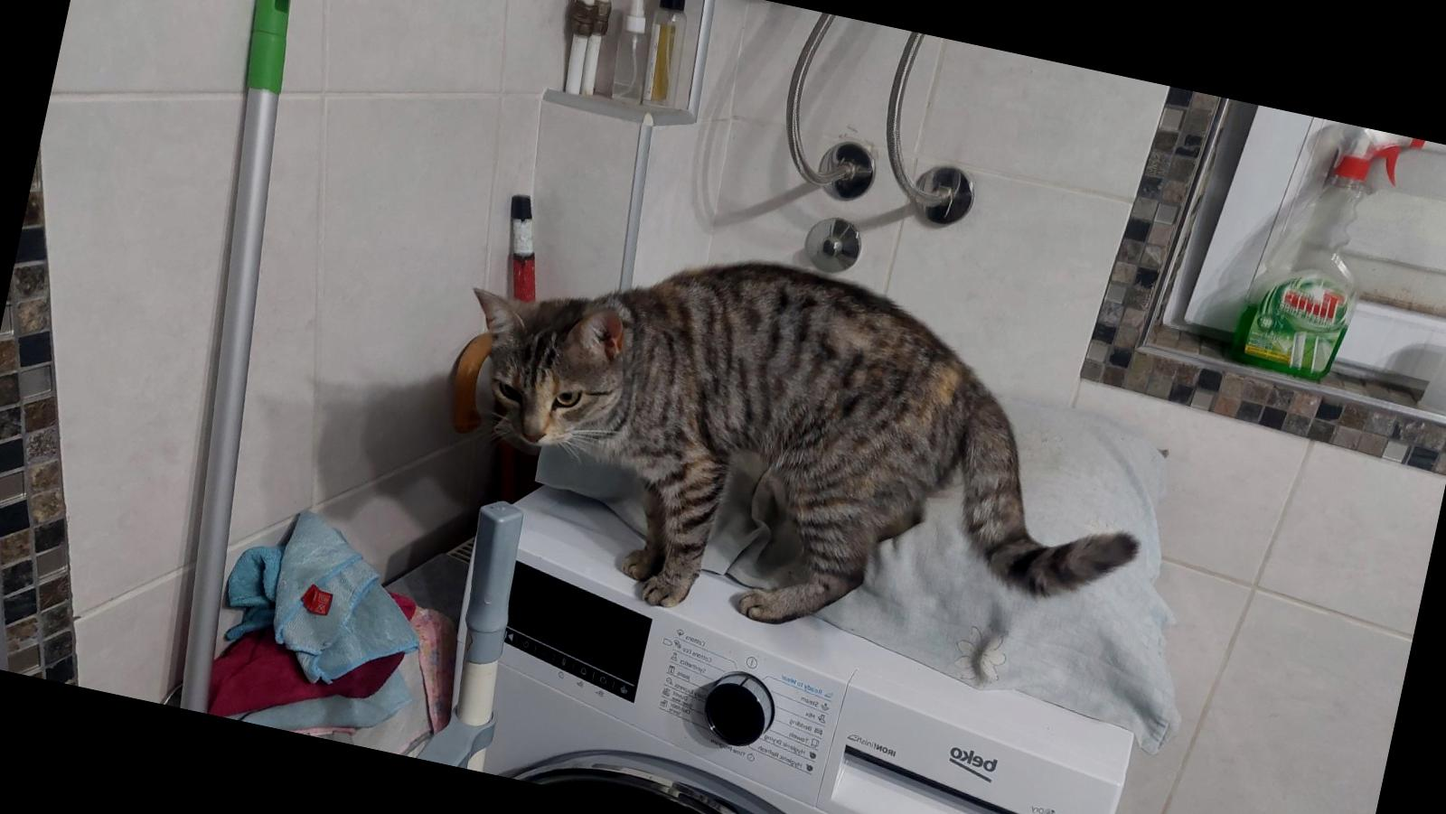macka: (413, 202, 1180, 703)
